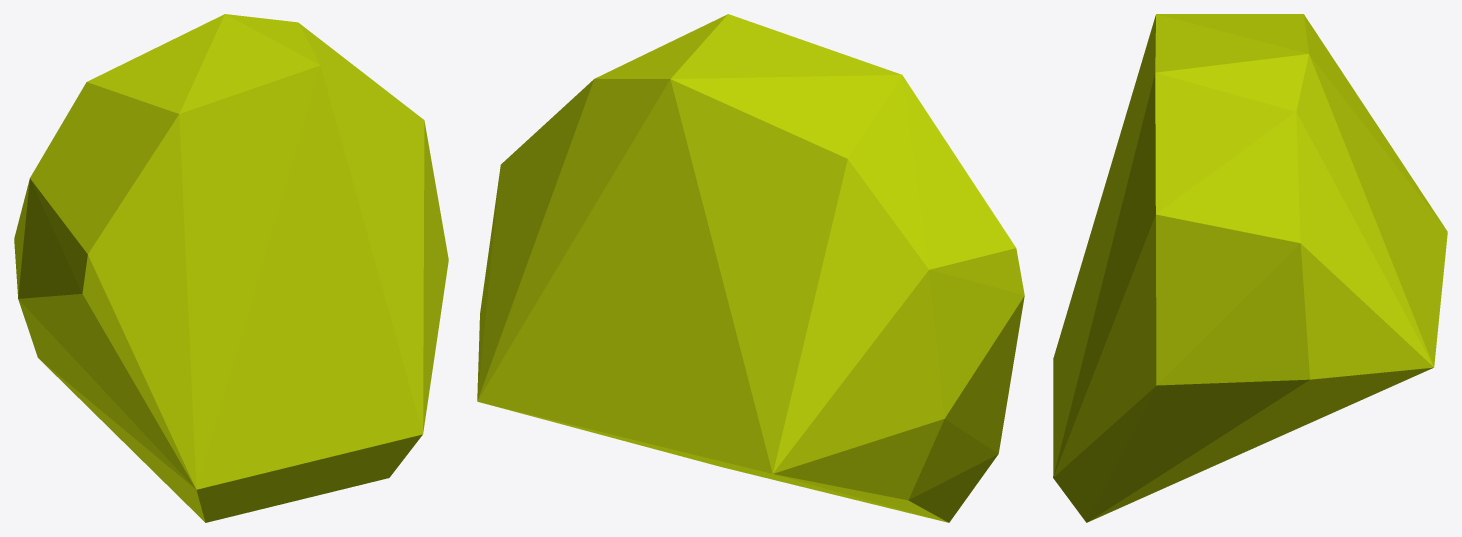
File: toe-roll_convex_piece_000.obj
3 views of the same model, side by side, from view 1: azimuth 30°, elevation 25°; view 2: azimuth 150°, elevation 25°; view 3: azimuth 270°, elevation 25° (orthographic). The views are drawn at different scales.
Bounding box in the file's own units: 0.0342 × 0.0359 × 0.0294.
